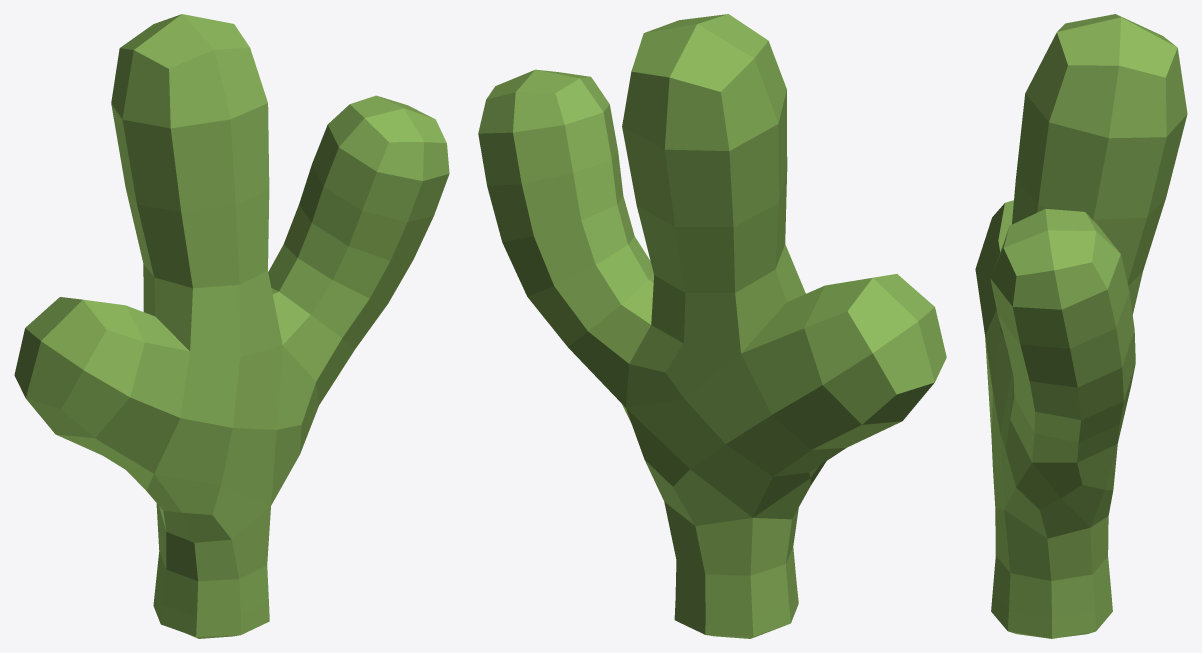
File: cactus.gltf
3 renders of one model, left to right at view 1: azimuth 30°, elevation 25°; view 2: azimuth 150°, elevation 25°; view 3: azimuth 270°, elevation 25°, orthographic. The views are drawn at different scales.
Visible parts, largest first — view 1: Low Poly stylized cactus; view 2: Low Poly stylized cactus; view 3: Low Poly stylized cactus.
Part boxes in pixels (box(x1,y1,x2,y2)): Low Poly stylized cactus: box(14, 14, 449, 638); Low Poly stylized cactus: box(478, 14, 946, 638); Low Poly stylized cactus: box(975, 14, 1187, 638).
Size of the model in its own units: 2.28 by 3.04 by 0.966.
